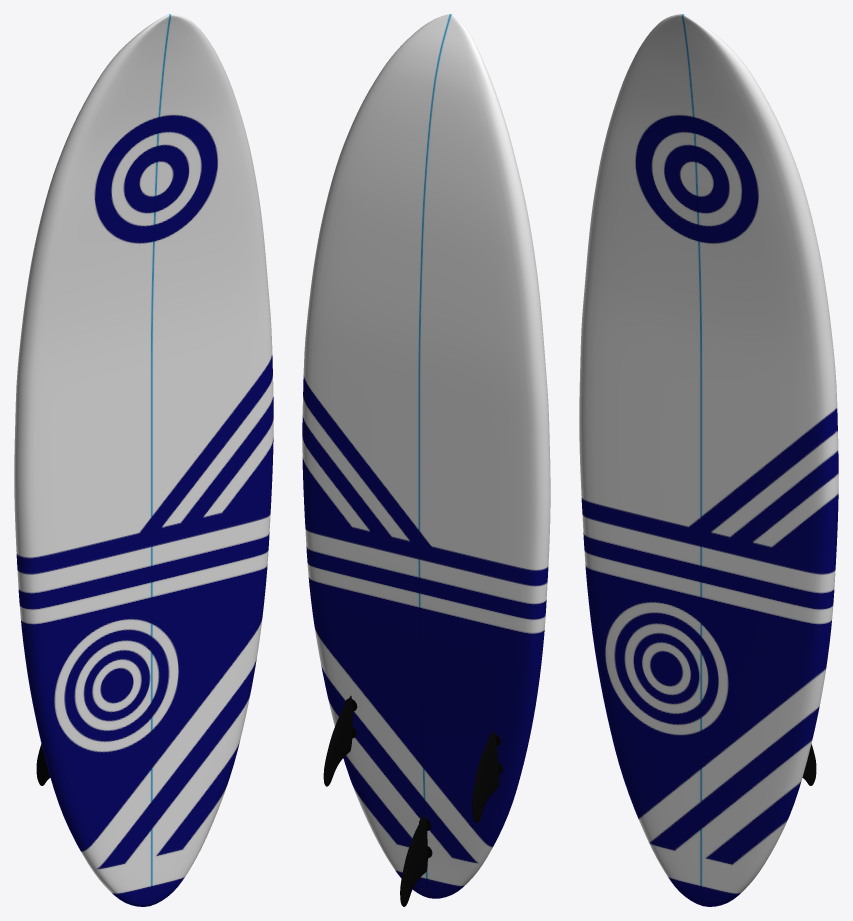
File: surfboard.glb
The picture shows the model from 3 angles, left to right: view 1: azimuth 30°, elevation 25°; view 2: azimuth 150°, elevation 25°; view 3: azimuth 330°, elevation 25°; orthographic projection. The views are drawn at different scales.
Visible parts, largest first — view 1: SurfBoard; view 2: SurfBoard, quilla.001, quilla.000; view 3: SurfBoard.
Boxes of the visible parts, x1,y1,x2,y2 form: SurfBoard: (14,14,273,906); SurfBoard: (302,14,550,898); quilla.001: (323,696,502,822); quilla.000: (400,815,432,906); SurfBoard: (579,14,838,906).
Size of the model in its own units: 50.35 by 170 by 18.92.
Materials: 2 (1 with a texture image).
